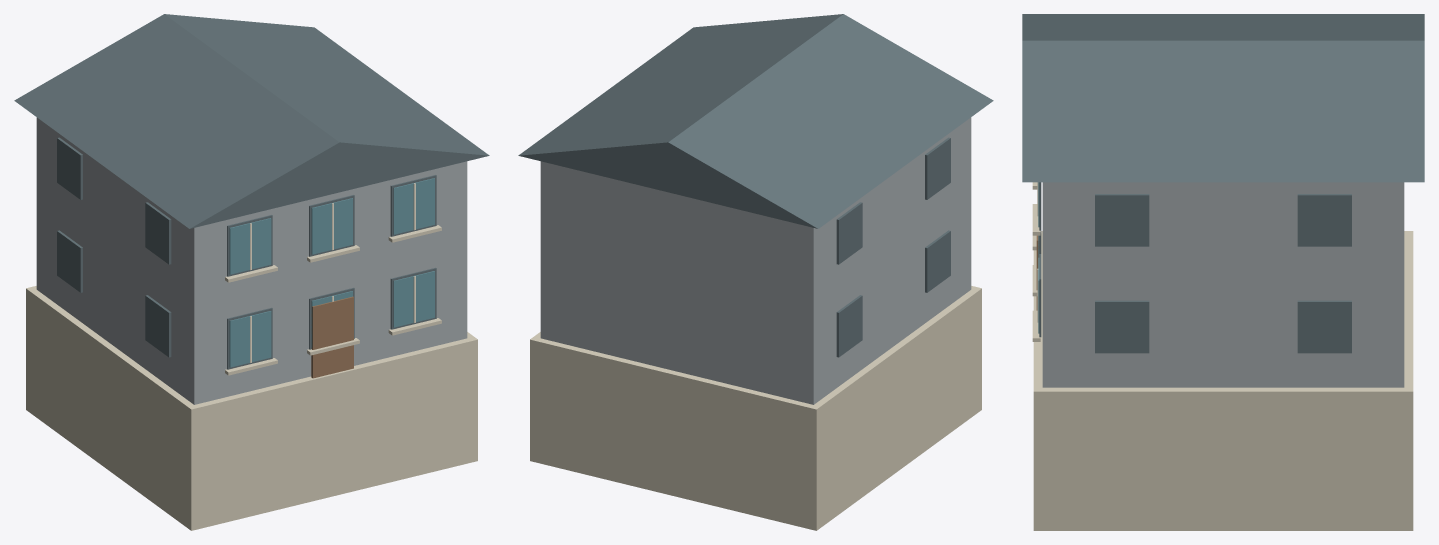
Rendered from warehouse-1.glb.
3 renders of one model, left to right at view 1: azimuth 30°, elevation 25°; view 2: azimuth 150°, elevation 25°; view 3: azimuth 270°, elevation 25°, orthographic. The views are drawn at different scales.
Bounding box in the file's own units: 8.8 × 10 × 8.9.
